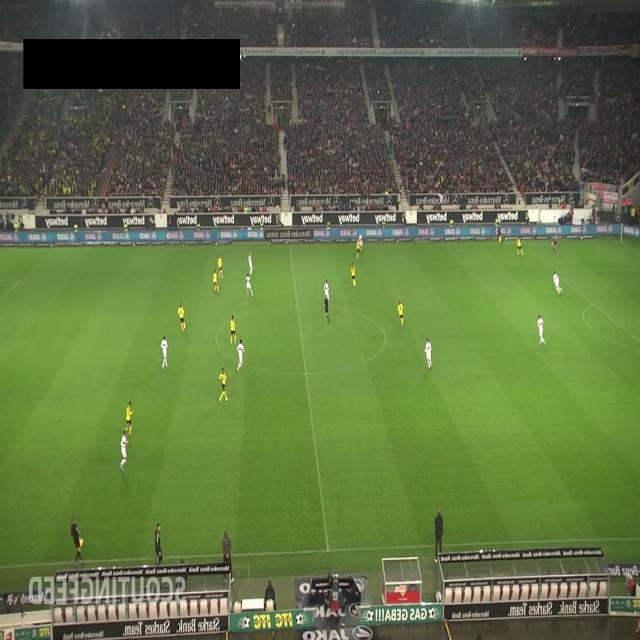player: (218, 366, 228, 403), (120, 429, 128, 471), (125, 401, 134, 437), (236, 338, 245, 373), (424, 337, 432, 370), (552, 269, 562, 294), (161, 335, 168, 370), (538, 314, 546, 344), (178, 302, 186, 331), (397, 298, 404, 326), (230, 314, 236, 346), (323, 278, 330, 304), (212, 268, 219, 293), (246, 274, 253, 297), (217, 253, 223, 279), (350, 262, 356, 288), (516, 237, 524, 256), (247, 252, 253, 276), (551, 234, 558, 253), (356, 238, 360, 260), (358, 233, 362, 253)
referee: (70, 515, 84, 565), (323, 294, 330, 322), (497, 223, 502, 242)
